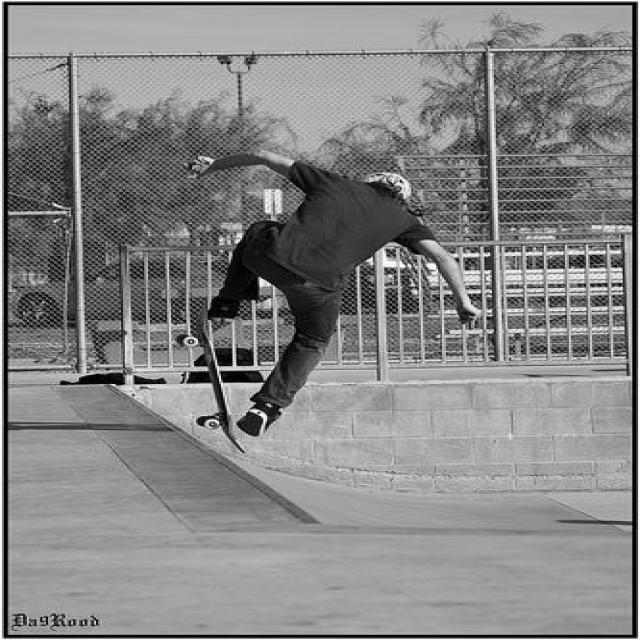vehicle: (15, 255, 229, 327)
